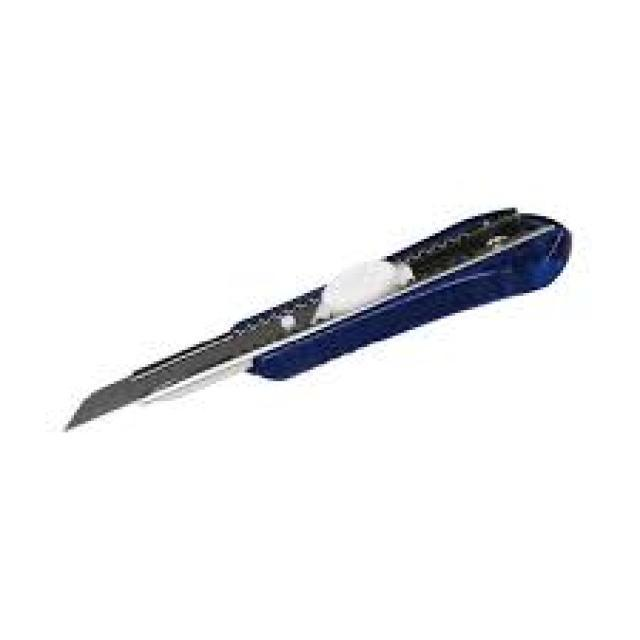cutter: (52, 189, 599, 454)
